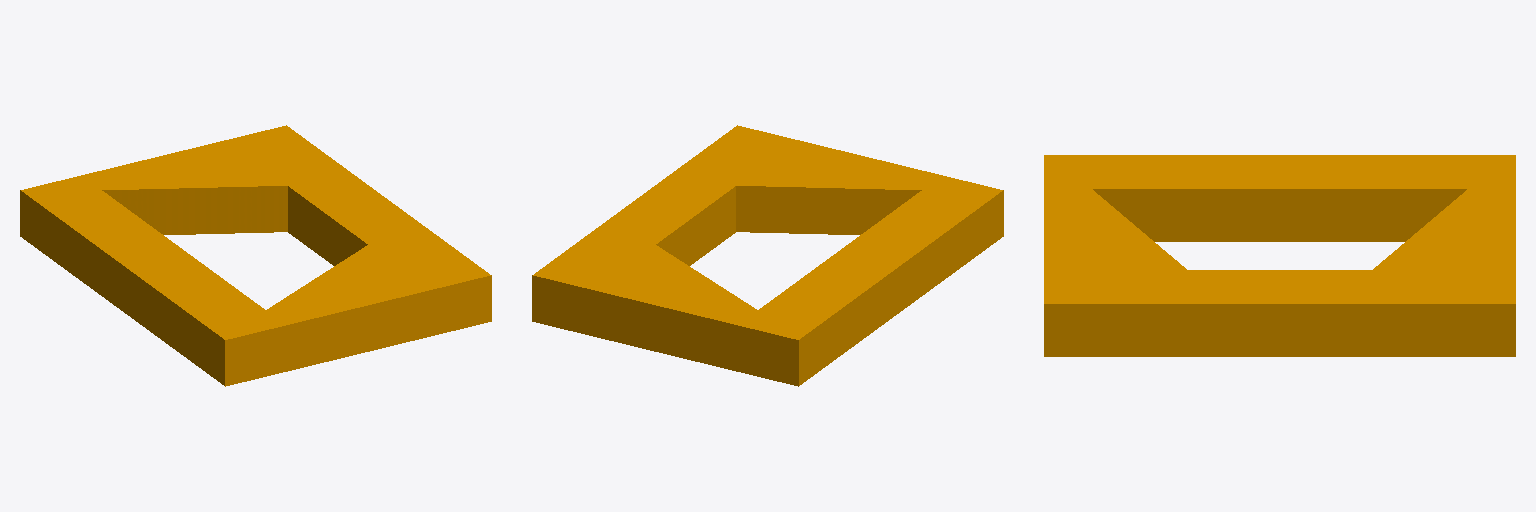
URDF robot description (trapez_peg):
<?xml version="1.0"?>
<robot name="trapez_peg">
    <link name="trapez_peg">
        <visual>
            <!--origin xyz="0 0 0.01905" rpy="0 1.57079632679 0"-->
            <geometry>
                <mesh filename="../mesh/factory_insertion/trapez_hole.obj"/>
            </geometry>
        </visual>
        <collision>
            <!--origin xyz="0 0 0.01905" rpy="0 1.57079632679 0"-->
            <geometry>
                <mesh filename="../mesh/factory_insertion/trapez_hole.obj"/>
            </geometry>
                        <sdf resolution="256" />

        </collision>
    </link>
</robot>

--- What the picture shows (computed from the rendered views, not written in the file) ---
Views: 3 orthographic renders of the robot side by side, from view 1: azimuth 30°, elevation 25°; view 2: azimuth 150°, elevation 25°; view 3: azimuth 270°, elevation 25°.
Robot: trapez_peg — 1 links, 0 joints (none); root link trapez_peg; default pose: all joints at 0.
Links seen in each view (by area): view 1: trapez_peg; view 2: trapez_peg; view 3: trapez_peg.
Boxes of the visible links, x1,y1,x2,y2 form: trapez_peg: (20, 125, 491, 386); trapez_peg: (532, 125, 1003, 386); trapez_peg: (1044, 155, 1515, 356).
Size in the robot's own frame: 0.06 by 0.08 by 0.01 metres.
Meshes: 1 distinct files referenced, 1 mesh visuals loaded (1 OBJ).
